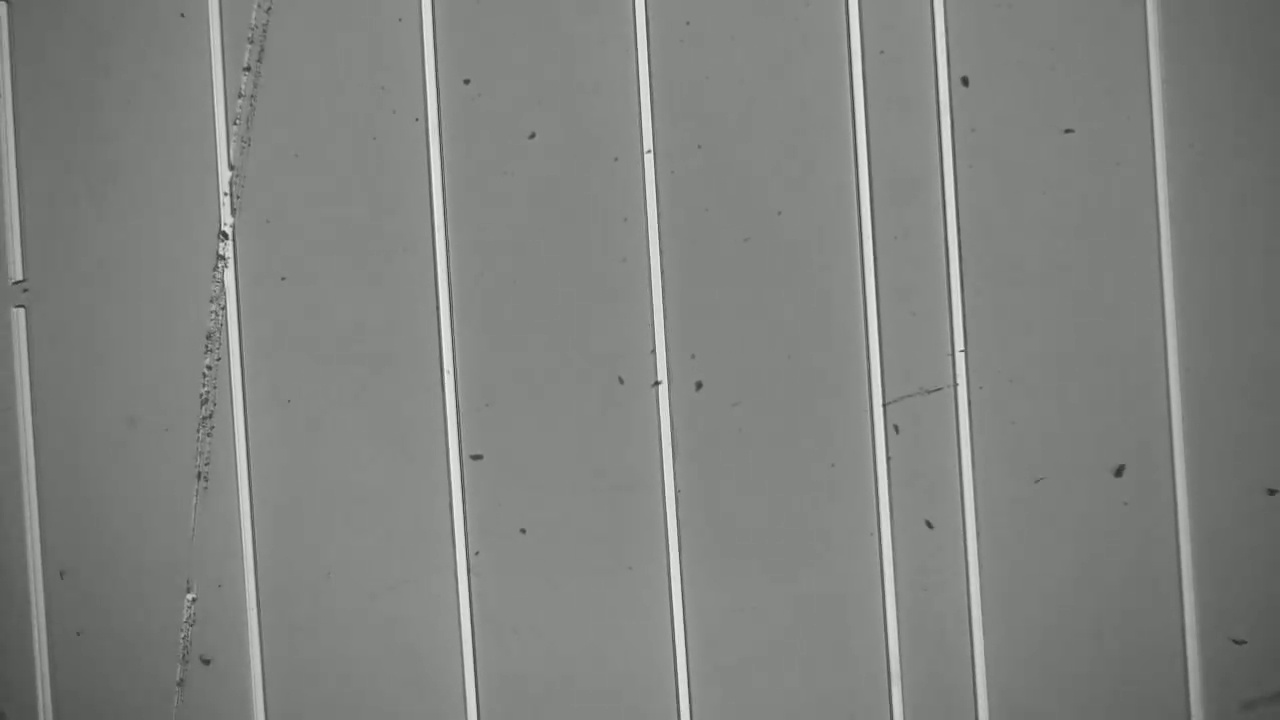open: (0, 257, 40, 339)
scratch: (179, 4, 280, 706), (883, 377, 952, 423)
